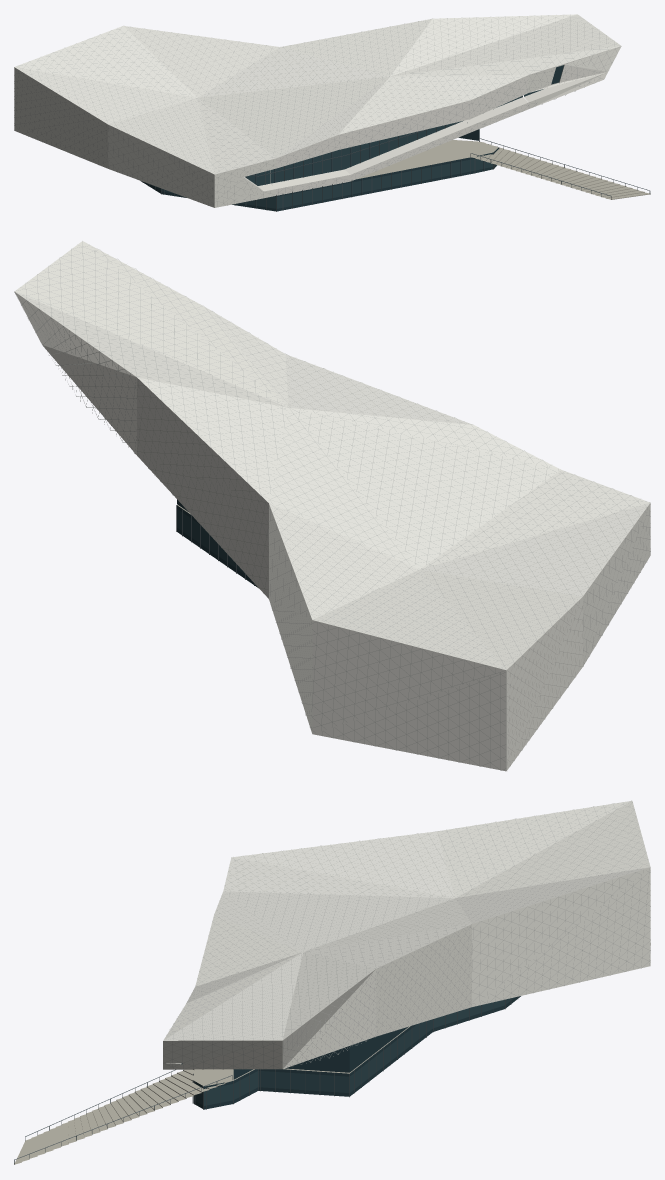
File: eye-filmmuseum-near.glb
The picture shows the model from 3 angles, top to bottom: view 1: azimuth 30°, elevation 25°; view 2: azimuth 150°, elevation 25°; view 3: azimuth 270°, elevation 25°; orthographic projection. The views are drawn at different scales.
Parts seen in each view (by area): view 1: eye-filmmuseum-0-roof, eye-filmmuseum-0-shell, eye-filmmuseum-0-joints, eye-filmmuseum-0-light, eye-filmmuseum-0-concrete, eye-filmmuseum-0-glass, eye-filmmuseum-0-steel; view 2: eye-filmmuseum-0-roof, eye-filmmuseum-0-shell, eye-filmmuseum-0-joints, eye-filmmuseum-0-light; view 3: eye-filmmuseum-0-roof, eye-filmmuseum-0-shell, eye-filmmuseum-0-joints, eye-filmmuseum-0-concrete, eye-filmmuseum-0-light, eye-filmmuseum-0-glass, eye-filmmuseum-0-steel.
Boxes of the visible parts, bbox=[...] form: eye-filmmuseum-0-roof: bbox=[14, 14, 620, 174]; eye-filmmuseum-0-shell: bbox=[14, 46, 621, 207]; eye-filmmuseum-0-joints: bbox=[14, 14, 619, 206]; eye-filmmuseum-0-light: bbox=[150, 89, 543, 208]; eye-filmmuseum-0-concrete: bbox=[270, 140, 650, 199]; eye-filmmuseum-0-glass: bbox=[141, 65, 563, 211]; eye-filmmuseum-0-steel: bbox=[142, 89, 650, 211]; eye-filmmuseum-0-roof: bbox=[14, 241, 650, 670]; eye-filmmuseum-0-shell: bbox=[15, 292, 650, 771]; eye-filmmuseum-0-joints: bbox=[14, 241, 650, 770]; eye-filmmuseum-0-light: bbox=[177, 509, 247, 576]; eye-filmmuseum-0-roof: bbox=[163, 800, 650, 1040]; eye-filmmuseum-0-shell: bbox=[163, 867, 650, 1069]; eye-filmmuseum-0-joints: bbox=[163, 800, 650, 1069]; eye-filmmuseum-0-concrete: bbox=[14, 1026, 410, 1164]; eye-filmmuseum-0-light: bbox=[193, 997, 514, 1105]; eye-filmmuseum-0-glass: bbox=[193, 996, 520, 1109]; eye-filmmuseum-0-steel: bbox=[14, 997, 518, 1164].
Bounding box in the file's own units: 112 × 25.07 × 102.
